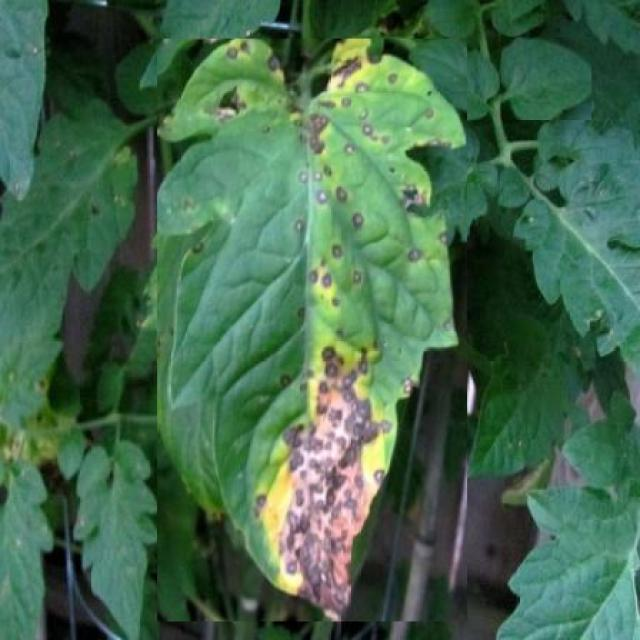Healthy: (502, 38, 592, 120)
Septoria: (157, 39, 467, 622)
